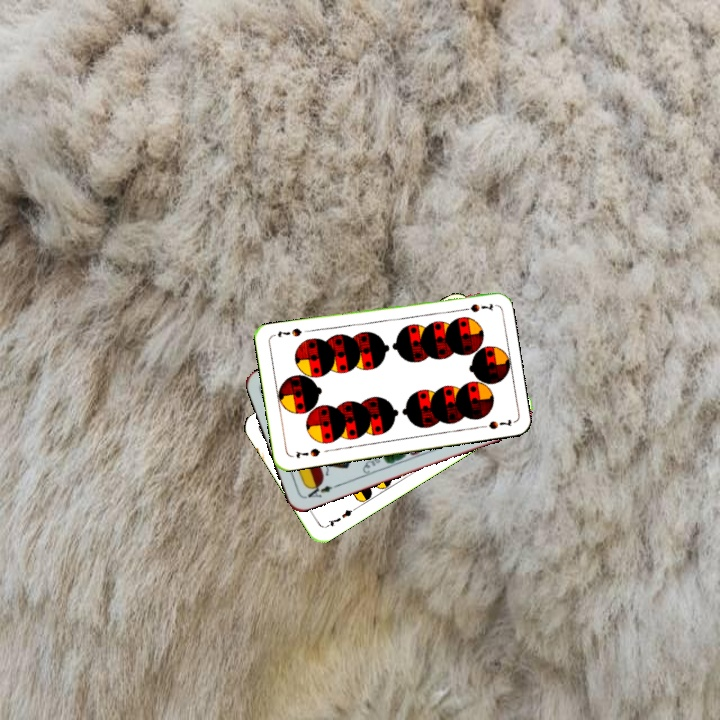E7: (321, 504, 358, 530)
EA: (302, 479, 341, 501)
S7: (456, 300, 496, 315), (292, 444, 323, 461)
